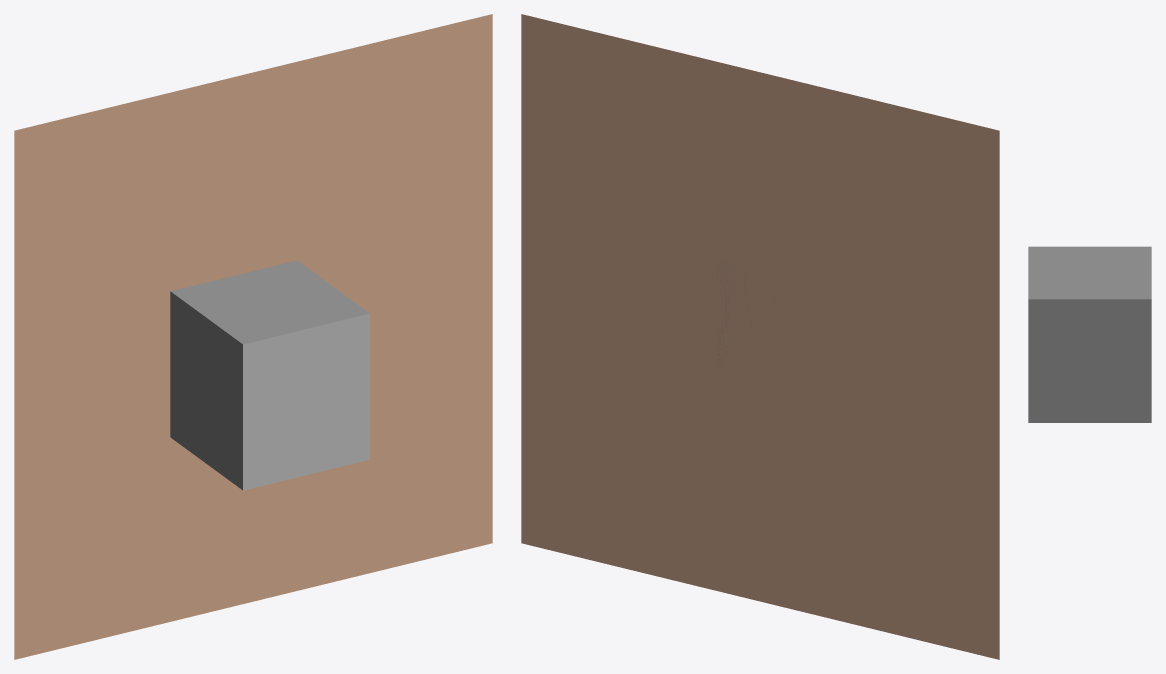
The model's file is simplecube.obj.
3 renders of one model, left to right at view 1: azimuth 30°, elevation 25°; view 2: azimuth 150°, elevation 25°; view 3: azimuth 270°, elevation 25°, orthographic. The views are drawn at different scales.
Parts seen in each view (by area): view 1: Plane001, Box001; view 2: Plane001; view 3: Box001.
Part boxes in pixels (x1,y1,x2,y2): Plane001: [14, 14, 492, 659]; Box001: [170, 260, 369, 490]; Plane001: [521, 14, 999, 659]; Box001: [1028, 246, 1151, 422].
Bounding box in the file's own units: 144 × 153 × 38.01.
